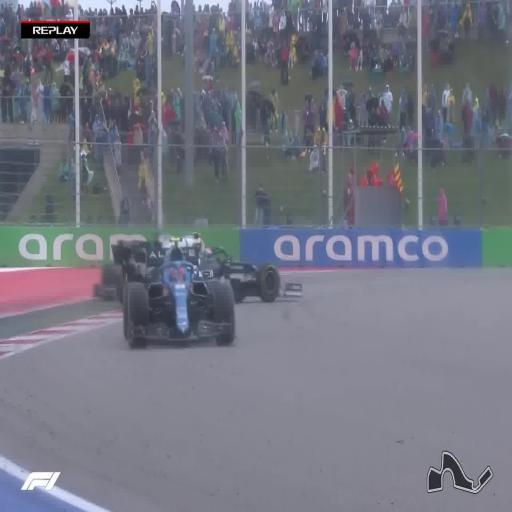f1_car: (95, 233, 302, 302), (112, 241, 234, 346), (112, 241, 125, 262)
